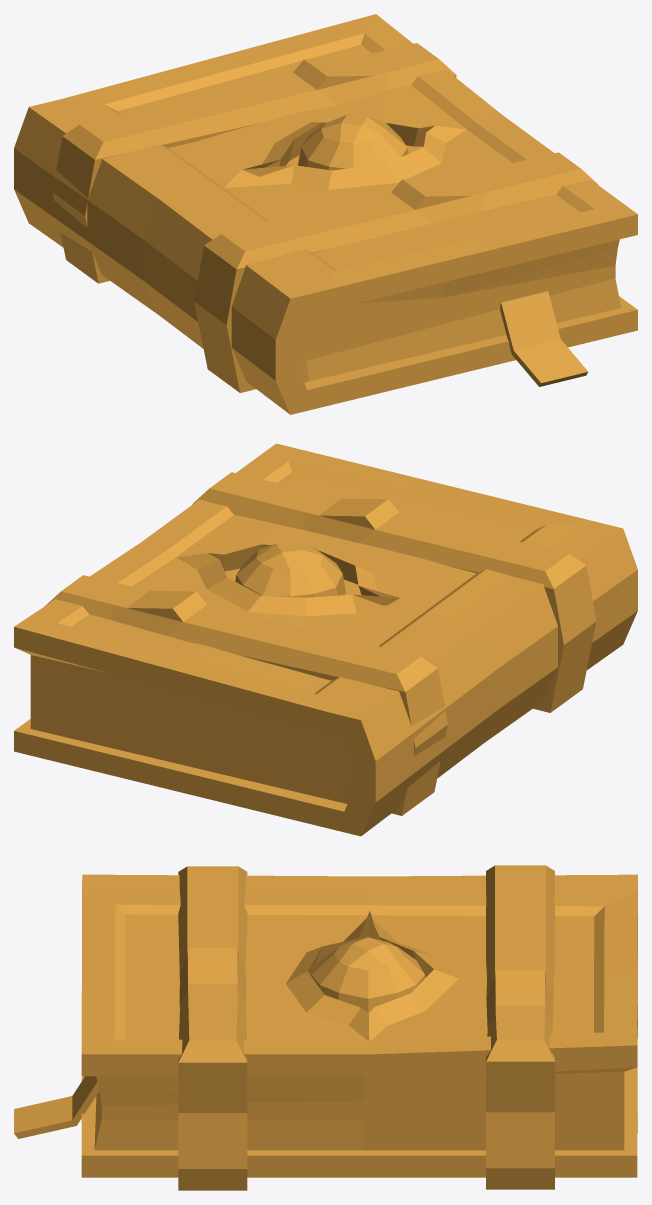
The model's file is book-magical-eye.fbx.
3 renders of one model, top to bottom at view 1: azimuth 30°, elevation 25°; view 2: azimuth 150°, elevation 25°; view 3: azimuth 270°, elevation 25°, orthographic. The views are drawn at different scales.
Visible parts, largest first — view 1: book-magical-; view 2: book-magical-; view 3: book-magical-.
Part boxes in pixels (x1,y1,x2,y2): book-magical-: (14,14,637,414); book-magical-: (14,443,637,836); book-magical-: (14,865,637,1190).
Bounding box in the file's own units: 0.2203 × 0.0887 × 0.2979.
